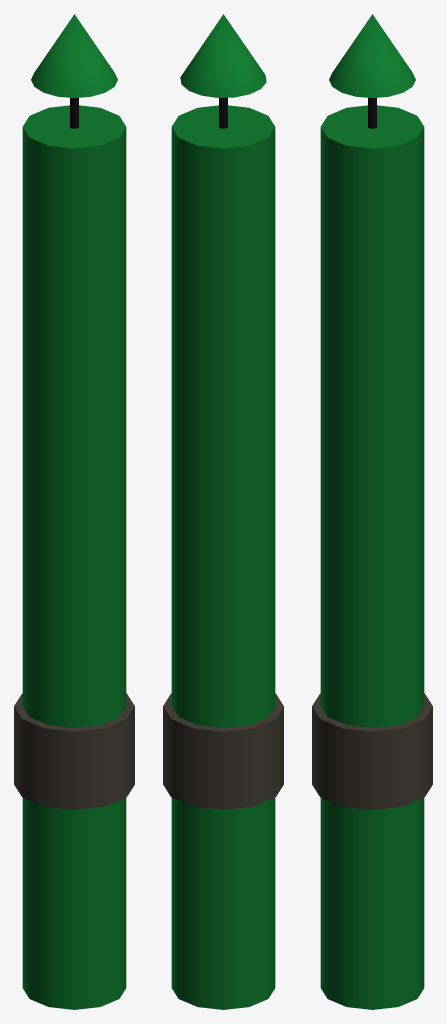
File: pile_green_cone.glb
3 views of the same model, side by side, from view 1: azimuth 90°, elevation 25°; view 2: azimuth 150°, elevation 25°; view 3: azimuth 270°, elevation 25° (orthographic).
Parts seen in each view (by area): view 1: pile_green_cone; view 2: pile_green_cone; view 3: pile_green_cone.
Part boxes in pixels (bbox=[...]): pile_green_cone: bbox=[14, 14, 134, 1009]; pile_green_cone: bbox=[163, 14, 283, 1009]; pile_green_cone: bbox=[312, 14, 432, 1009].
Size of the model in its own units: 0.7001 by 6.22 by 0.7001.
